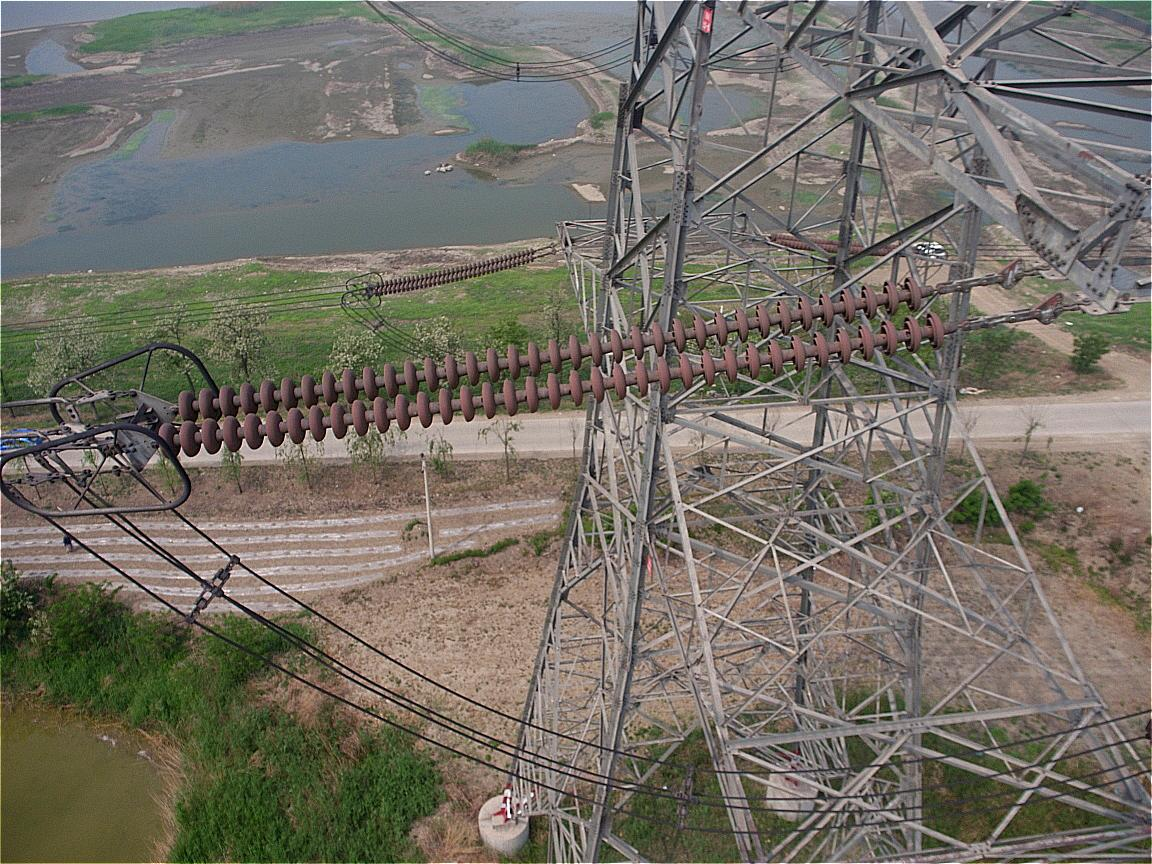insultor1: (157, 277, 943, 456), (375, 246, 535, 297), (771, 235, 905, 257)
